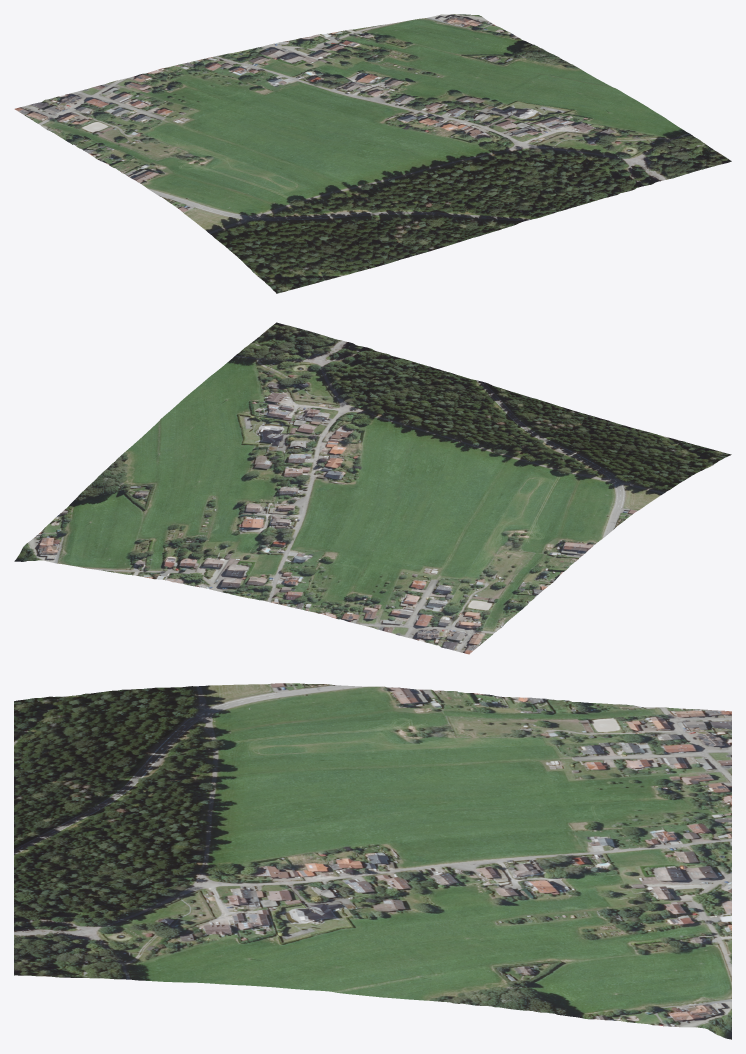
File: terrain_2_1.glb
The picture shows the model from 3 angles, top to bottom: view 1: azimuth 30°, elevation 25°; view 2: azimuth 150°, elevation 25°; view 3: azimuth 270°, elevation 25°; orthographic projection. The views are drawn at different scales.
Parts seen in each view (by area): view 1: geometry_0; view 2: geometry_0; view 3: geometry_0.
Part boxes in pixels (x1,y1,x2,y2): geometry_0: (14,14,731,293); geometry_0: (14,322,731,654); geometry_0: (14,683,731,1039).
Size of the model in its own units: 499 by 49.36 by 499.
1 material, 1 textured.
